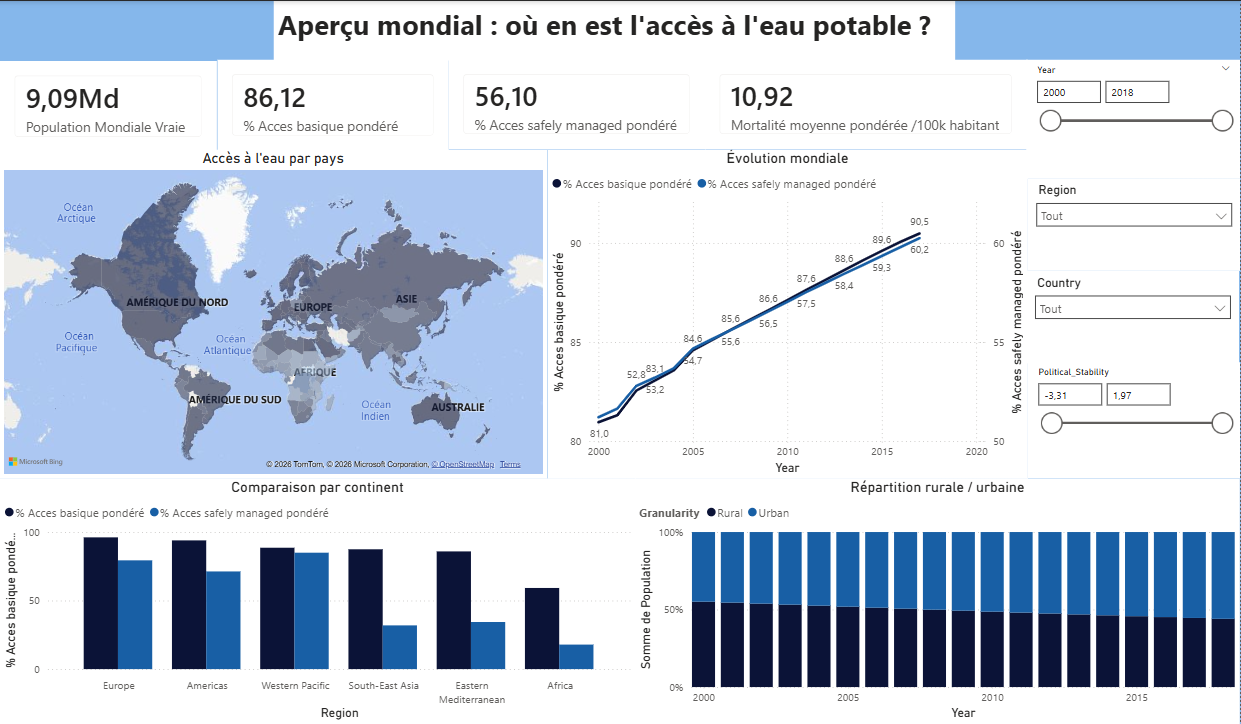

Layout of this report page (visuals, bound fields, positions):
{"tool":"powerbi","page":{"name":"Vue Mondiale","canvas":[1450,846],"ordinal":0},"visuals":[{"type":"filledMap","title":"Accès à l''eau par pays","fields":{"Category":["RegionCountry.Country"]},"box":[0,173.3,639.8,385.6],"z":0},{"type":"lineChart","title":"Évolution mondiale","fields":{"Y":["Population.% Acces basique pondéré"],"Y2":["Population.% Acces safely managed pondéré"],"Category":["Annee.Annee"]},"box":[639.8,173.3,561.8,385.6],"z":1000},{"type":"slicer","fields":{"Values":["Annee.Annee"]},"box":[1200.1,69.3,248.4,138.6],"z":2000},{"type":"textbox","box":[27.4,0,795.8,69.3],"z":3000},{"type":"cardVisual","fields":{"Data":["Population.Population Mondiale Vraie"]},"box":[0,69.8,253.8,106.9],"z":4000},{"type":"cardVisual","fields":{"Data":["Population.% Acces safely managed pondéré"]},"box":[524.3,69.3,300.4,106.9],"z":5000},{"type":"cardVisual","fields":{"Data":["Population.% Acces basique pondéré"]},"box":[253.8,69.2,270.7,106.1],"z":6000},{"type":"cardVisual","fields":{"Data":["MortalityRateAttributedToWater.Mortalité KPI"]},"box":[824.4,68.7,377.1,108.2],"z":7000},{"type":"clusteredColumnChart","title":"Comparaison par continent","fields":{"Category":["RegionCountry.Region"],"Y":["Population.% Acces basique pondéré","Population.% Acces safely managed pondéré"]},"box":[0,558.3,742.8,287.6],"z":8000},{"type":"hundredPercentStackedColumnChart","title":"Répartition rurale / urbaine","fields":{"Y":["Sum(Population.Population)"],"Series":["Population.Granularity"],"Category":["Annee.Annee"]},"box":[742.8,558.3,707.5,287.6],"z":9000},{"type":"slicer","fields":{"Values":["RegionCountry.Region"]},"box":[1201.2,207.6,249.2,107.7],"z":10000},{"type":"slicer","fields":{"Values":["RegionCountry.Country"]},"box":[1200.1,314.8,248.4,108.3],"z":11000},{"type":"slicer","fields":{"Values":["PoliticalStability.Political_Stability"]},"box":[1201.6,423.2,247,135.8],"z":12000},{"type":"pageNavigator","box":[850.6,8.7,599.4,50.5],"z":13000}]}

Visuals, with their boxes in screenshot pixels (x1, y1, x2, y2), scaled from the page's 1450x846 canvas onto the 1241x724 screenshot:
"Accès à l''eau par pays" filledMap: bbox=(0, 148, 548, 478)
"Évolution mondiale" lineChart: bbox=(548, 148, 1028, 478)
slicer - Annee.Annee: bbox=(1027, 59, 1240, 178)
textbox: bbox=(23, 0, 705, 59)
cardVisual - Population.Population Mondiale Vraie: bbox=(0, 60, 217, 151)
cardVisual - Population.% Acces safely managed pondéré: bbox=(449, 59, 706, 151)
cardVisual - Population.% Acces basique pondéré: bbox=(217, 59, 449, 150)
cardVisual - MortalityRateAttributedToWater.Mortalité KPI: bbox=(706, 59, 1028, 151)
"Comparaison par continent" clusteredColumnChart: bbox=(0, 478, 636, 723)
"Répartition rurale / urbaine" hundredPercentStackedColumnChart: bbox=(636, 478, 1240, 723)
slicer - RegionCountry.Region: bbox=(1028, 178, 1240, 270)
slicer - RegionCountry.Country: bbox=(1027, 269, 1240, 362)
slicer - PoliticalStability.Political_Stability: bbox=(1028, 362, 1240, 478)
pageNavigator: bbox=(728, 7, 1240, 51)
